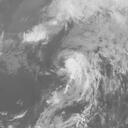cyclone: (52, 48, 101, 101)
